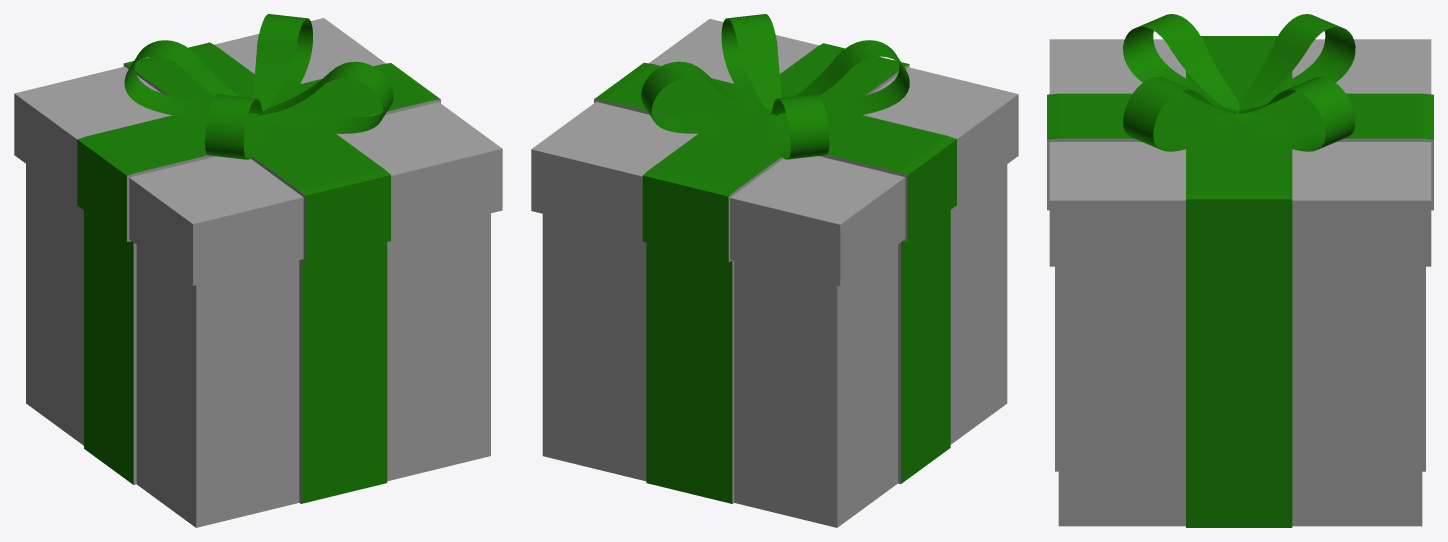
Rendered from Present Small Green.glb.
3 renders of one model, left to right at view 1: azimuth 30°, elevation 25°; view 2: azimuth 150°, elevation 25°; view 3: azimuth 270°, elevation 25°, orthographic. The views are drawn at different scales.
Parts seen in each view (by area): view 1: Cube, BézierCircle.001, BézierCircle.003, BézierCircle, BézierCircle.004; view 2: Cube, BézierCircle, BézierCircle.004, BézierCircle.001, BézierCircle.003; view 3: Cube, BézierCircle.003, BézierCircle.004, BézierCircle.001, BézierCircle.
Boxes of the visible parts, x1,y1,x2,y2 form: Cube: [14, 18, 502, 527]; BézierCircle.001: [253, 14, 312, 110]; BézierCircle.003: [124, 40, 258, 118]; BézierCircle: [258, 61, 393, 133]; BézierCircle.004: [205, 94, 264, 159]; Cube: [531, 19, 1018, 527]; BézierCircle: [721, 14, 781, 110]; BézierCircle.004: [776, 40, 909, 118]; BézierCircle.001: [641, 61, 776, 133]; BézierCircle.003: [769, 94, 829, 159]; Cube: [1047, 36, 1433, 527]; BézierCircle.003: [1239, 14, 1355, 113]; BézierCircle.004: [1123, 14, 1239, 113]; BézierCircle.001: [1236, 77, 1355, 151]; BézierCircle: [1123, 77, 1242, 151].
Size of the model in its own units: 0.4257 by 0.4805 by 0.4257.
